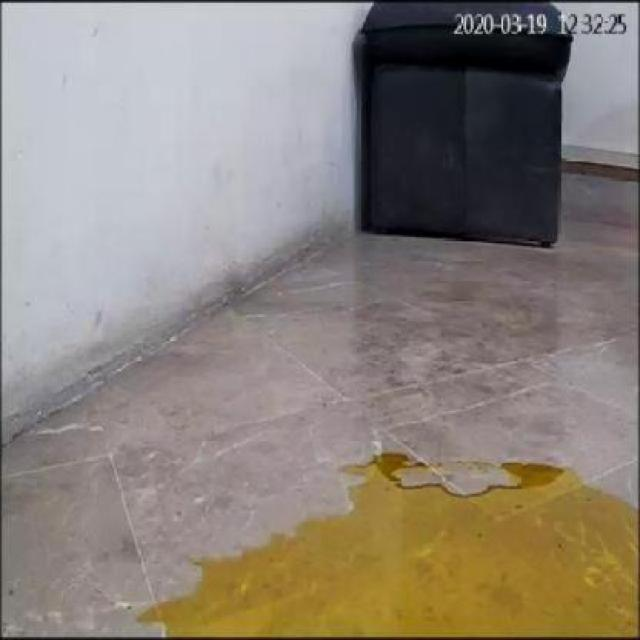spillage: (146, 455, 640, 640)
